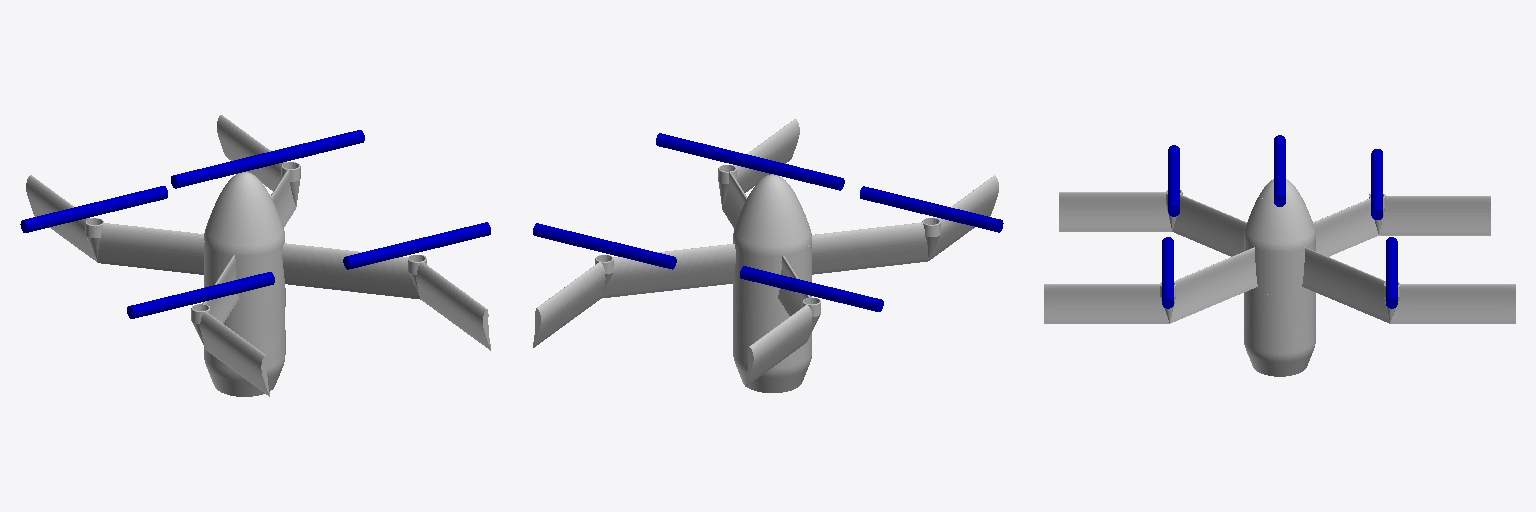
URDF robot description (hermes):
<?xml version="1.0" ?>
<!-- =================================================================================== -->
<!-- |    This document was autogenerated by xacro from hermes.urdf.xacro              | -->
<!-- |    EDITING THIS FILE BY HAND IS NOT RECOMMENDED                                 | -->
<!-- =================================================================================== -->
<robot name="hermes">
  <!-- Materials -->
  <material name="blue">
    <color rgba="0 0 0.8 1"/>
  </material>
  <material name="black">
    <color rgba="0 0 0 1"/>
  </material>
  <material name="white">
    <color rgba="1 1 1 1"/>
  </material>
  <material name="grey">
    <color rgba="0.8 0.8 0.8 1"/>
  </material>
  <!-- Base link -->
  <link name="base_link"/>
  <joint name="dummy_joint" type="fixed">
    <parent link="base_link"/>
    <child link="frame"/>
    <origin rpy="0 -1.571 0" xyz="0 0 0.8"/>
  </joint>
  <!-- Frame -->
  <link name="frame">
    <visual>
      <origin rpy="0.0 0 0" xyz="0 0 0"/>
      <geometry>
        <mesh filename="package://salvos_gz/models/hermes/meshes/hermes_mesh_scaled.stl"/>
      </geometry>
      <material name="grey"/>
    </visual>
    <collision>
      <origin rpy="0.0 0 0" xyz="0 0 0"/>
      <geometry>
        <mesh filename="package://salvos_gz/models/hermes/meshes/hermes_mesh_scaled.stl"/>
      </geometry>
    </collision>
    <inertial>
      <origin rpy="0 0 0" xyz="0 0 0"/>
      <mass value="2.637"/>
      <inertia ixx="47.090" ixy="0.0" ixz="0.0" iyy="87.969" iyz="0.0" izz="118.937"/>
    </inertial>
  </link>
  <!-- Nose rotor -->
  <link name="nose_rotor">
    <visual>
      <origin rpy="0 0 0" xyz="0 0 0"/>
      <geometry>
        <cylinder length="1.2" radius="0.05"/>
      </geometry>
      <material name="blue"/>
    </visual>
    <collision>
      <origin rpy="0.0 0 0" xyz="0 0 0"/>
      <geometry>
        <cylinder length="1.2" radius="0.05"/>
      </geometry>
    </collision>
    <inertial>
      <origin rpy="0 0 0" xyz="0 0 0"/>
      <mass value="0.1265424"/>
      <inertia ixx="0.1185" ixy="0.0" ixz="0.0" iyy="0.1170" iyz="0.009964" izz="0.001558"/>
    </inertial>
  </link>
  <joint name="nose_rotor_joint" type="continuous">
    <parent link="frame"/>
    <child link="nose_rotor"/>
    <origin rpy="0 0 0" xyz="1 0 0"/>
    <axis xyz="-1 0 0"/>
    <limit effort="10" velocity="10000"/>
    <dynamics damping="0.002" friction="0.0005"/>
  </joint>
  <!--
    <joint name="nose_rotor_joint" type="continuous">
      <parent link="frame"/>
      <child link="nose_rotor"/>
      <origin xyz="1 0 0" rpy="0 1.571 3.14159"/>
      <axis xyz="0 0 1"/>
      <limit lower="0" upper="0" effort="10" velocity="600"/>
      <dynamics damping="0.002" friction="0.0005"/>
    </joint>
    -->
  <!-- Front-left rotor -->
  <link name="fl_rotor">
    <visual>
      <origin rpy="0 0 0" xyz="0 0 0"/>
      <geometry>
        <cylinder length="1.2" radius="0.05"/>
      </geometry>
      <material name="blue"/>
    </visual>
    <collision>
      <origin rpy="0.0 0 0" xyz="0 0 0"/>
      <geometry>
        <cylinder length="1.2" radius="0.05"/>
      </geometry>
    </collision>
    <inertial>
      <origin rpy="0 0 0" xyz="0 0 0"/>
      <mass value="0.1265424"/>
      <inertia ixx="0.1185" ixy="0.0" ixz="0.0" iyy="0.1170" iyz="0.009964" izz="0.001558"/>
    </inertial>
  </link>
  <joint name="fl_rotor_joint" type="continuous">
    <parent link="frame"/>
    <child link="fl_rotor"/>
    <origin rpy="0 0 0" xyz="0.5 0.81 0.81"/>
    <axis xyz="-1 0 0"/>
    <limit effort="10" velocity="10000"/>
    <dynamics damping="0.002" friction="0.0005"/>
  </joint>
  <!-- Front-right rotor -->
  <link name="fr_rotor">
    <visual>
      <origin rpy="0 0 0" xyz="0 0 0"/>
      <geometry>
        <cylinder length="1.2" radius="0.05"/>
      </geometry>
      <material name="blue"/>
    </visual>
    <collision>
      <origin rpy="0.0 0 0" xyz="0 0 0"/>
      <geometry>
        <cylinder length="1.2" radius="0.05"/>
      </geometry>
    </collision>
    <inertial>
      <origin rpy="0 0 0" xyz="0 0 0"/>
      <mass value="0.1265424"/>
      <inertia ixx="0.1185" ixy="0.0" ixz="0.0" iyy="0.1170" iyz="0.009964" izz="0.001558"/>
    </inertial>
  </link>
  <joint name="fr_rotor_joint" type="continuous">
    <parent link="frame"/>
    <child link="fr_rotor"/>
    <origin rpy="0 0 0" xyz="0.5 -0.88 0.88"/>
    <axis xyz="-1 0 0"/>
    <limit effort="10" velocity="10000"/>
    <dynamics damping="0.002" friction="0.0005"/>
  </joint>
  <!-- Rear-left rotor -->
  <link name="rl_rotor">
    <visual>
      <origin rpy="0 0 0" xyz="0 0 0"/>
      <geometry>
        <cylinder length="1.2" radius="0.05"/>
      </geometry>
      <material name="blue"/>
    </visual>
    <collision>
      <origin rpy="0.0 0 0" xyz="0 0 0"/>
      <geometry>
        <cylinder length="1.2" radius="0.05"/>
      </geometry>
    </collision>
    <inertial>
      <origin rpy="0 0 0" xyz="0 0 0"/>
      <mass value="0.1265424"/>
      <inertia ixx="0.1185" ixy="0.0" ixz="0.0" iyy="0.1170" iyz="0.009964" izz="0.001558"/>
    </inertial>
  </link>
  <joint name="rl_rotor_joint" type="continuous">
    <parent link="frame"/>
    <child link="rl_rotor"/>
    <origin rpy="0 0 0" xyz="0.5 -0.93 -0.93"/>
    <axis xyz="-1 0 0"/>
    <limit effort="10" velocity="10000"/>
    <dynamics damping="0.002" friction="0.0005"/>
  </joint>
  <!-- Rear-right rotor -->
  <link name="rr_rotor">
    <visual>
      <origin rpy="0 0 0" xyz="0 0 0"/>
      <geometry>
        <cylinder length="1.2" radius="0.05"/>
      </geometry>
      <material name="blue"/>
    </visual>
    <collision>
      <origin rpy="0.0 0 0" xyz="0 0 0"/>
      <geometry>
        <cylinder length="1.2" radius="0.05"/>
      </geometry>
    </collision>
    <inertial>
      <origin rpy="0 0 0" xyz="0 0 0"/>
      <mass value="0.1265424"/>
      <inertia ixx="0.1185" ixy="0.0" ixz="0.0" iyy="0.1170" iyz="0.009964" izz="0.001558"/>
    </inertial>
  </link>
  <joint name="rr_rotor_joint" type="continuous">
    <parent link="frame"/>
    <child link="rr_rotor"/>
    <origin rpy="0 0 0" xyz="0.5 0.93 -0.93"/>
    <axis xyz="-1 0 0"/>
    <limit effort="10" velocity="10000"/>
    <dynamics damping="0.002" friction="0.0005"/>
  </joint>
  <gazebo>
    <!-- Nose rotor -->
    <plugin filename="libgz-sim-joint-controller-system.so" name="gz::sim::systems::JointController">
      <joint_name>nose_rotor_joint</joint_name>
      <topic>/model/hermes/joint/nose_rotor_joint/cmd_vel</topic>
    </plugin>
    <!-- Front-left rotor -->
    <plugin filename="libgz-sim-joint-controller-system.so" name="gz::sim::systems::JointController">
      <joint_name>fl_rotor_joint</joint_name>
      <topic>/model/hermes/joint/fl_rotor_joint/cmd_vel</topic>
    </plugin>
    <!-- Front-right rotor -->
    <plugin filename="libgz-sim-joint-controller-system.so" name="gz::sim::systems::JointController">
      <joint_name>fr_rotor_joint</joint_name>
      <topic>/model/hermes/joint/fr_rotor_joint/cmd_vel</topic>
    </plugin>
    <!-- Rear-left rotor -->
    <plugin filename="libgz-sim-joint-controller-system.so" name="gz::sim::systems::JointController">
      <joint_name>rl_rotor_joint</joint_name>
      <topic>/model/hermes/joint/rl_rotor_joint/cmd_vel</topic>
    </plugin>
    <!-- Rear-right rotor -->
    <plugin filename="libgz-sim-joint-controller-system.so" name="gz::sim::systems::JointController">
      <joint_name>rr_rotor_joint</joint_name>
      <topic>/model/hermes/joint/rr_rotor_joint/cmd_vel</topic>
    </plugin>
    <plugin filename="gz-sim-multicopter-motor-model-system.so" name="gz::sim::systems::MulticopterMotorModel">
      <robotNamespace>hermes</robotNamespace>
      <!-- Nose rotor -->
      <motor>
        <jointName>nose_rotor_joint</jointName>
        <linkName>nose_rotor</linkName>
        <turningDirection>ccw</turningDirection>
        <motorConstant>0.0075</motorConstant>
        <!-- thrust coefficient -->
        <momentConstant>0.06</momentConstant>
        <commandSubTopic>gazebo/command/motor_speed</commandSubTopic>
        <motorNumber>0</motorNumber>
        <rotorDragCoefficient>2.5e-4</rotorDragCoefficient>
        <rollingMomentCoefficient>1e-6</rollingMomentCoefficient>
        <motorSpeedPubTopic>/hermes/motor_speed/m0</motorSpeedPubTopic>
        <rotorVelocitySlowdownSim>1</rotorVelocitySlowdownSim>
        <timeConstantUp>0.0125</timeConstantUp>
        <timeConstantDown>0.025</timeConstantDown>
        <maxRotVelocity>1200.0</maxRotVelocity>
        <motorType>velocity</motorType>
      </motor>
      <!-- Front-left rotor -->
      <motor>
        <jointName>fl_rotor_joint</jointName>
        <linkName>fl_rotor</linkName>
        <turningDirection>ccw</turningDirection>
        <motorConstant>0.0075</motorConstant>
        <!-- thrust coefficient -->
        <momentConstant>0.06</momentConstant>
        <commandSubTopic>gazebo/command/motor_speed</commandSubTopic>
        <motorNumber>1</motorNumber>
        <rotorDragCoefficient>2.5e-4</rotorDragCoefficient>
        <rollingMomentCoefficient>1e-6</rollingMomentCoefficient>
        <motorSpeedPubTopic>/hermes/motor_speed/m1</motorSpeedPubTopic>
        <rotorVelocitySlowdownSim>1</rotorVelocitySlowdownSim>
        <timeConstantUp>0.0125</timeConstantUp>
        <timeConstantDown>0.025</timeConstantDown>
        <maxRotVelocity>1200.0</maxRotVelocity>
        <motorType>velocity</motorType>
      </motor>
      <!-- Front-right rotor -->
      <motor>
        <jointName>fr_rotor_joint</jointName>
        <linkName>fr_rotor</linkName>
        <turningDirection>cw</turningDirection>
        <motorConstant>0.0075</motorConstant>
        <!-- thrust coefficient -->
        <momentConstant>0.06</momentConstant>
        <commandSubTopic>gazebo/command/motor_speed</commandSubTopic>
        <motorNumber>2</motorNumber>
        <rotorDragCoefficient>2.5e-4</rotorDragCoefficient>
        <rollingMomentCoefficient>1e-6</rollingMomentCoefficient>
        <motorSpeedPubTopic>/hermes/motor_speed/m2</motorSpeedPubTopic>
        <rotorVelocitySlowdownSim>1</rotorVelocitySlowdownSim>
        <timeConstantUp>0.0125</timeConstantUp>
        <timeConstantDown>0.025</timeConstantDown>
        <maxRotVelocity>1200.0</maxRotVelocity>
        <motorType>velocity</motorType>
      </motor>
      <!-- Rear-left rotor -->
      <motor>
        <jointName>rl_rotor_joint</jointName>
        <linkName>rl_rotor</linkName>
        <turningDirection>cw</turningDirection>
        <motorConstant>0.0075</motorConstant>
        <!-- thrust coefficient -->
        <momentConstant>0.06</momentConstant>
        <commandSubTopic>gazebo/command/motor_speed</commandSubTopic>
        <motorNumber>3</motorNumber>
        <rotorDragCoefficient>2.5e-4</rotorDragCoefficient>
        <rollingMomentCoefficient>1e-6</rollingMomentCoefficient>
        <motorSpeedPubTopic>/hermes/motor_speed/m3</motorSpeedPubTopic>
        <rotorVelocitySlowdownSim>1</rotorVelocitySlowdownSim>
        <timeConstantUp>0.0125</timeConstantUp>
        <timeConstantDown>0.025</timeConstantDown>
        <maxRotVelocity>1200.0</maxRotVelocity>
        <motorType>velocity</motorType>
      </motor>
      <!-- Rear-right rotor -->
      <motor>
        <jointName>rr_rotor_joint</jointName>
        <linkName>rr_rotor</linkName>
        <turningDirection>ccw</turningDirection>
        <motorConstant>0.0075</motorConstant>
        <!-- thrust coefficient -->
        <momentConstant>0.06</momentConstant>
        <commandSubTopic>gazebo/command/motor_speed</commandSubTopic>
        <motorNumber>4</motorNumber>
        <rotorDragCoefficient>2.5e-4</rotorDragCoefficient>
        <rollingMomentCoefficient>1e-6</rollingMomentCoefficient>
        <motorSpeedPubTopic>/hermes/motor_speed/m4</motorSpeedPubTopic>
        <rotorVelocitySlowdownSim>1</rotorVelocitySlowdownSim>
        <timeConstantUp>0.0125</timeConstantUp>
        <timeConstantDown>0.025</timeConstantDown>
        <maxRotVelocity>1200.0</maxRotVelocity>
        <motorType>velocity</motorType>
      </motor>
    </plugin>
  </gazebo>
</robot>

--- Facts derived from the render (not from the file) ---
3 views of the same robot in one strip: view 1: azimuth 30°, elevation 25°; view 2: azimuth 150°, elevation 25°; view 3: azimuth 270°, elevation 25° (orthographic).
Model hermes with 7 links and 6 joints (5 continuous, 1 fixed), rooted at base_link, posed all joints at 0.
Links seen in each view (by area): view 1: frame, nose_rotor, fr_rotor, rl_rotor, fl_rotor, rr_rotor; view 2: frame, fl_rotor, nose_rotor, fr_rotor, rr_rotor, rl_rotor; view 3: frame, nose_rotor, rl_rotor, rr_rotor, fr_rotor, fl_rotor.
Link boxes in pixels (box(x1,y1,x2,y2)): frame: box(26, 115, 490, 396); nose_rotor: box(171, 141, 318, 188); fr_rotor: box(127, 272, 274, 318); rl_rotor: box(343, 222, 490, 269); fl_rotor: box(20, 186, 167, 232); rr_rotor: box(246, 130, 364, 157); frame: box(533, 119, 998, 392); fl_rotor: box(740, 266, 883, 311); nose_rotor: box(701, 144, 844, 190); fr_rotor: box(860, 186, 1003, 232); rr_rotor: box(533, 223, 676, 269); rl_rotor: box(656, 133, 796, 166); frame: box(1044, 179, 1515, 376); nose_rotor: box(1274, 135, 1285, 206); rl_rotor: box(1162, 237, 1173, 308); rr_rotor: box(1386, 237, 1397, 308); fr_rotor: box(1168, 145, 1179, 216); fl_rotor: box(1371, 149, 1382, 219).
Bounding box of the posed robot: 3.01 × 3.92 × 1.83 m (x, y, z).
1 mesh visuals loaded from 1 distinct referenced files (1 binary STL).
